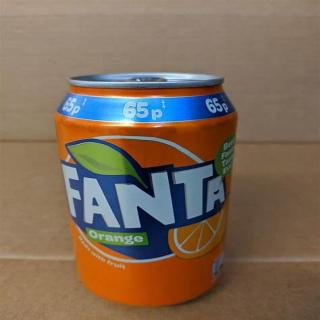Anorganik: (55, 65, 244, 313)
